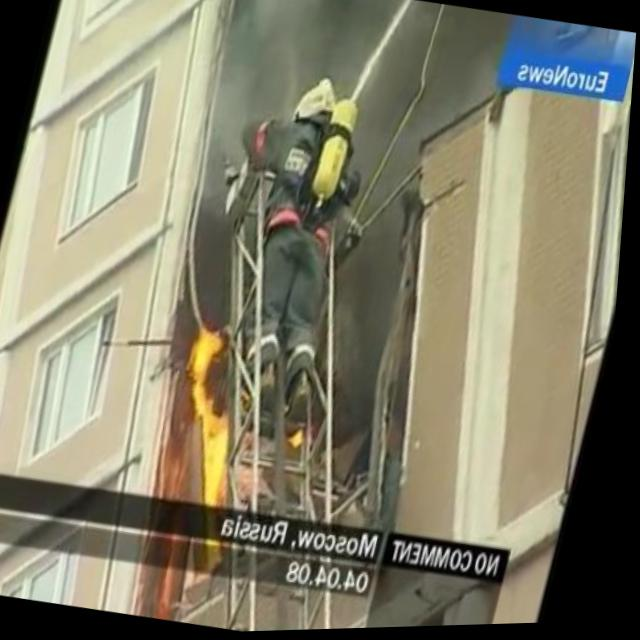fire: (155, 320, 274, 512), (290, 426, 318, 455)
